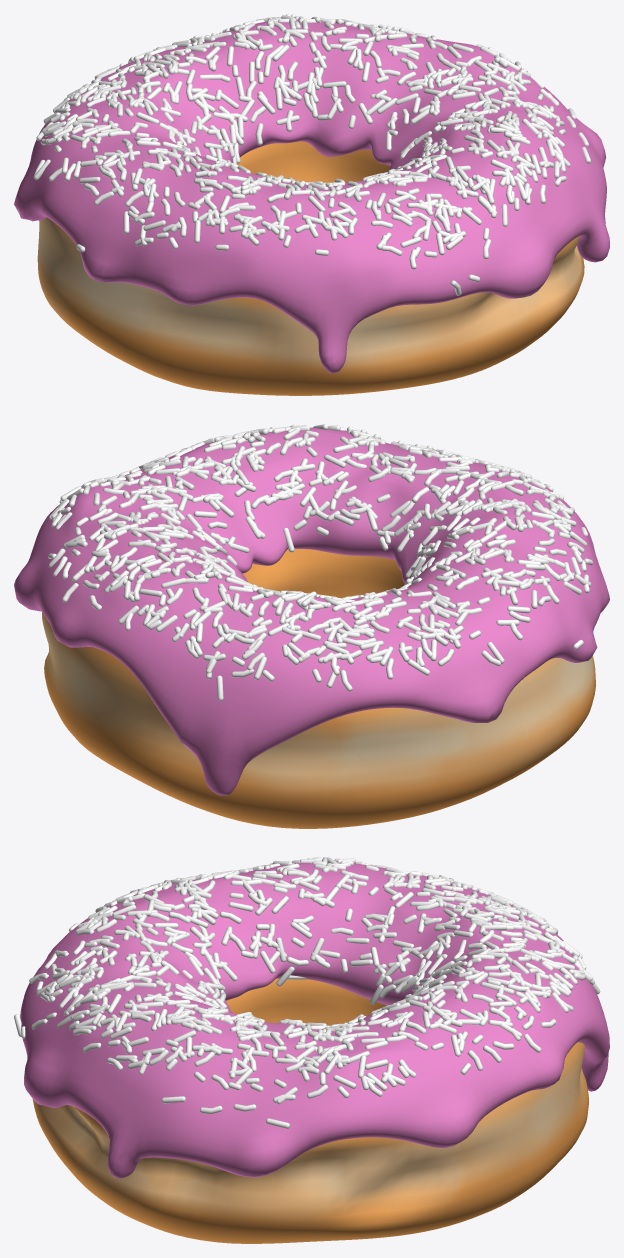
Rendered from my_first_donut.glb.
3 renders of one model, top to bottom at view 1: azimuth 30°, elevation 25°; view 2: azimuth 150°, elevation 25°; view 3: azimuth 270°, elevation 25°, orthographic. The views are drawn at different scales.
Visible parts, largest first — view 1: icing, donut; view 2: icing, donut; view 3: icing, donut.
Part boxes in pixels (box(x1,y1,x2,y2)): icing: box(14, 19, 609, 373); donut: box(37, 141, 584, 395); icing: box(14, 427, 609, 795); donut: box(42, 549, 595, 828); icing: box(20, 862, 609, 1178); donut: box(32, 978, 588, 1243).
Size of the model in its own units: 0.1555 by 0.0636 by 0.1534.
4 materials, 1 textured.
